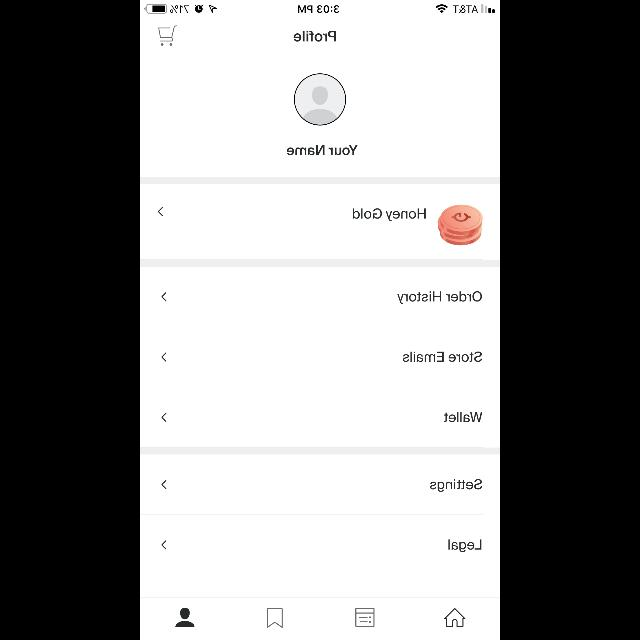icon: (294, 74, 346, 126), (158, 26, 178, 46), (176, 608, 194, 628), (444, 608, 464, 626), (356, 608, 374, 626), (267, 608, 283, 628), (162, 292, 166, 302), (162, 352, 166, 362), (162, 480, 166, 490), (162, 540, 166, 550), (162, 413, 166, 422), (158, 208, 162, 216)
image: (438, 204, 482, 246)
text: (352, 208, 426, 222), (396, 292, 482, 304), (286, 144, 358, 156), (402, 352, 482, 362), (430, 480, 482, 492), (294, 32, 336, 42), (448, 540, 482, 552), (444, 412, 482, 422)
uppertaskbar: (140, 0, 500, 14)
